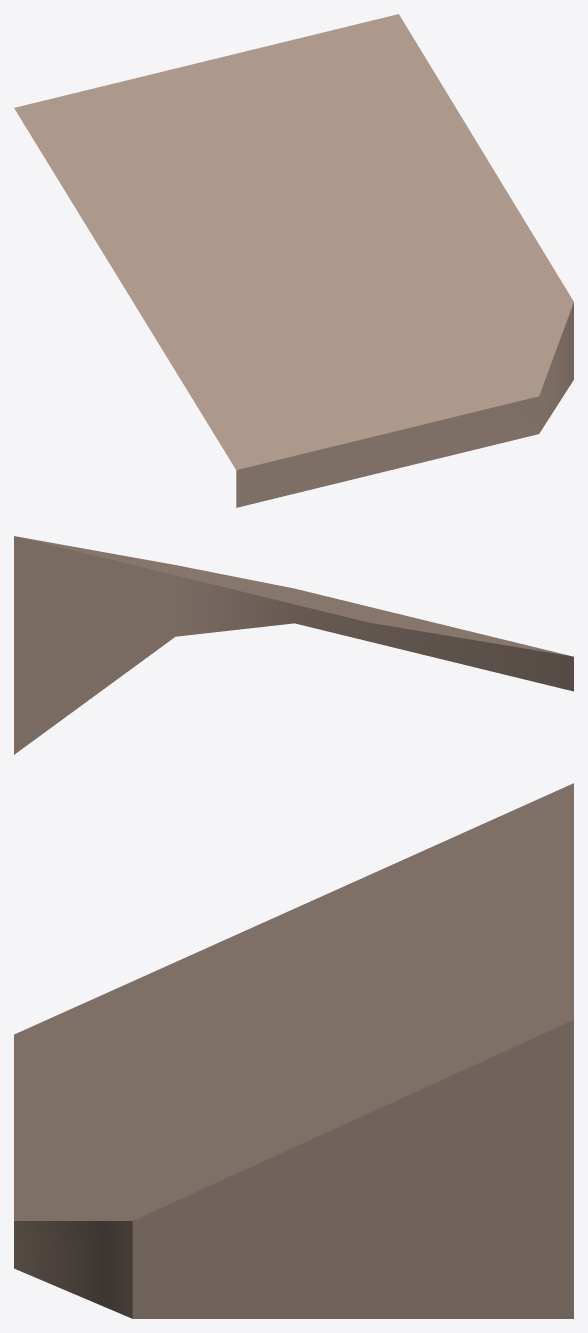
Rendered from BD_RoofSlant_col_CornerIncline.fbx.
3 views of the same model, one above another, from view 1: azimuth 30°, elevation 25°; view 2: azimuth 150°, elevation 25°; view 3: azimuth 270°, elevation 25° (orthographic). The views are drawn at different scales.
Visible parts, largest first — view 1: BD_RoofSlant_col_CornerIncline; view 2: BD_RoofSlant_col_CornerIncline; view 3: BD_RoofSlant_col_CornerIncline.
Part boxes in pixels (x1=…): BD_RoofSlant_col_CornerIncline: x1=14, y1=14, x2=573, y2=507; BD_RoofSlant_col_CornerIncline: x1=14, y1=536, x2=573, y2=754; BD_RoofSlant_col_CornerIncline: x1=14, y1=783, x2=573, y2=1318.
Size of the model in its own units: 6 by 3.54 by 6.
